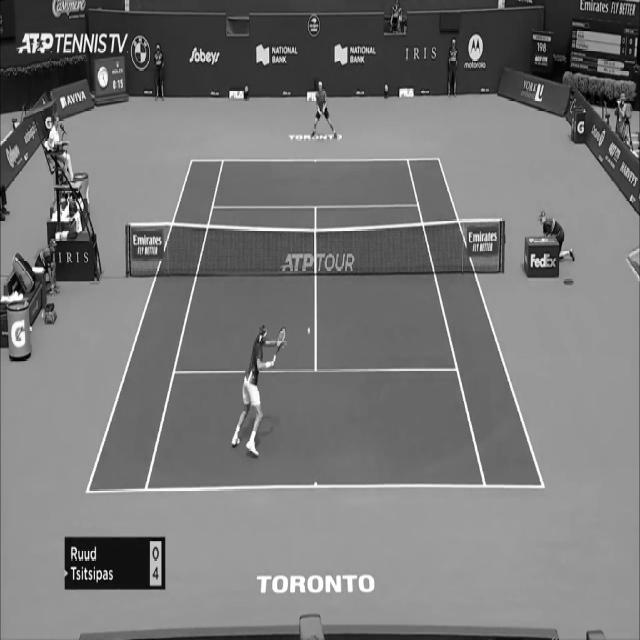tennis-court: (85, 158, 546, 494)
